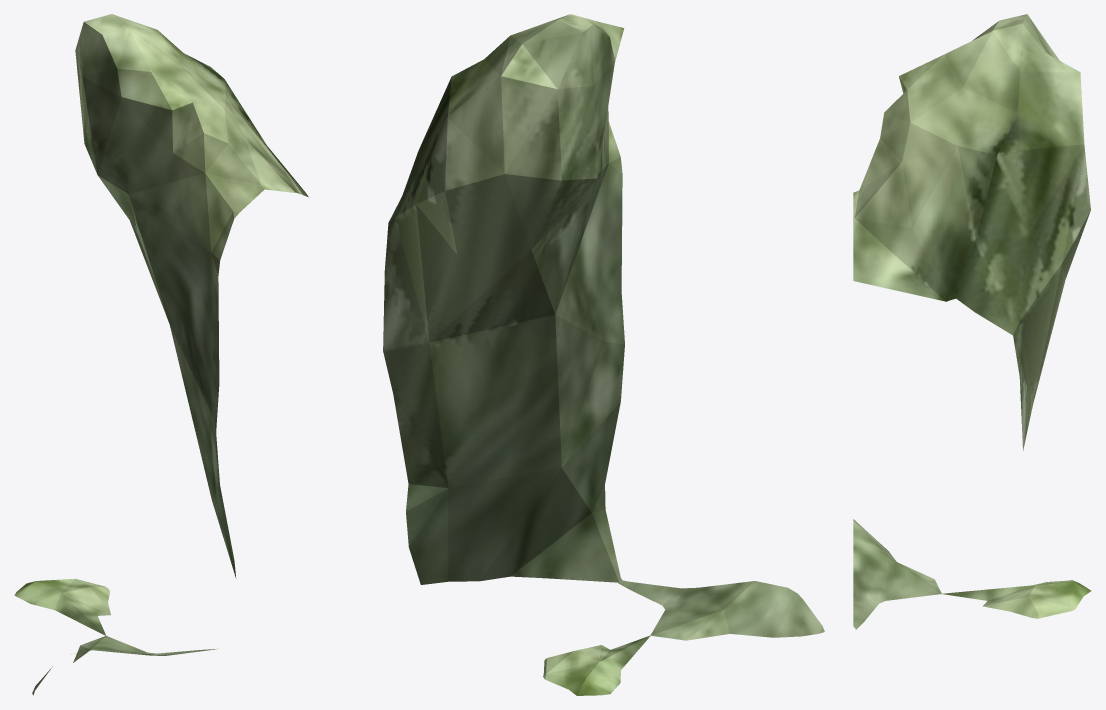
The picture shows the model from 3 angles, left to right: view 1: azimuth 30°, elevation 25°; view 2: azimuth 150°, elevation 25°; view 3: azimuth 270°, elevation 25°; orthographic projection. The views are drawn at different scales.
Size of the model in its own units: 1.09 by 1.89 by 0.6893.
Materials: 1 (1 with a texture image).
